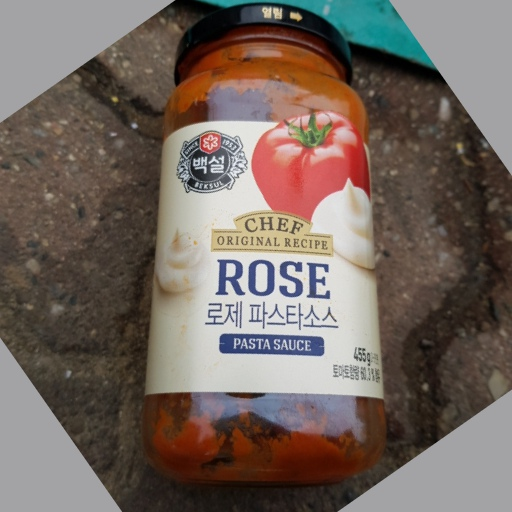Glass_5: (142, 8, 385, 478)
